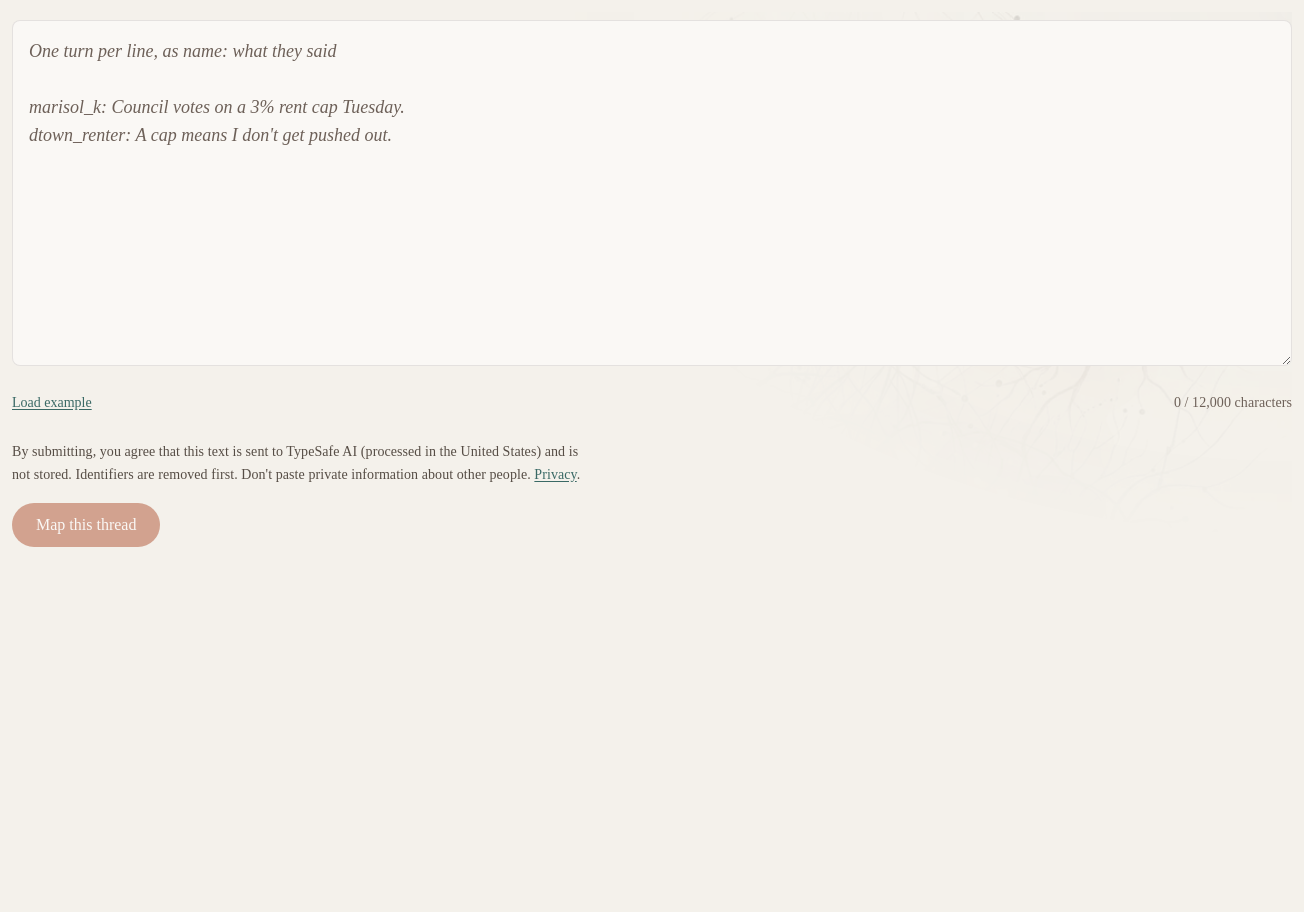
Test: MapReplyClient API boundary › keeps typed input available and allows retry after a malformed response
Click the button "Load example". click: (52, 403)
box: [12,381,92,425]
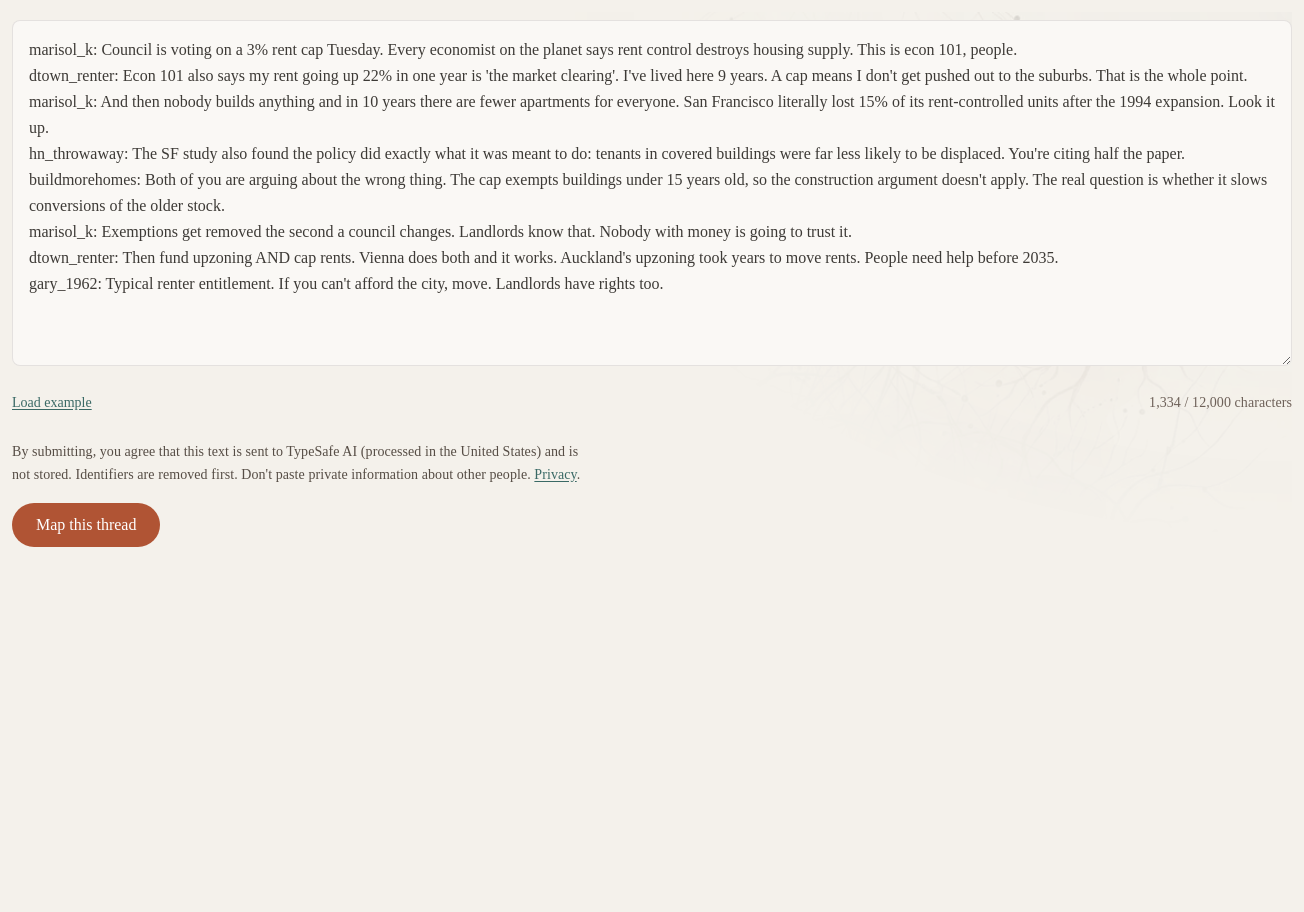
Click the button "Map this thread". click: (86, 524)
box: [12,502,160,546]
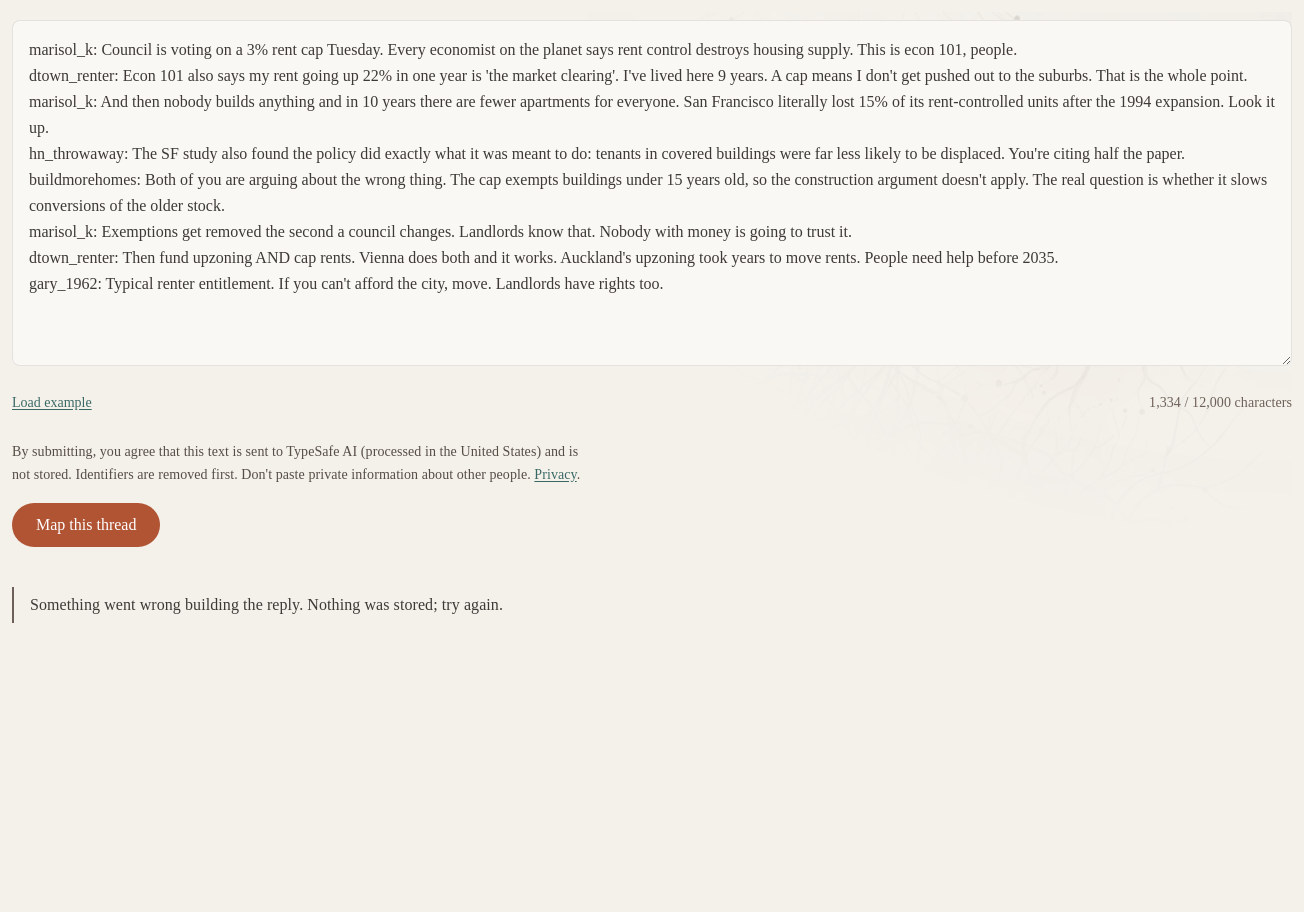
Now the message "Something went wrong building the reply. Nothing was stored; try again." is shown, box [12,586,1292,622]
Click the button "Map this thread". click: (86, 524)
box: [12,502,160,546]
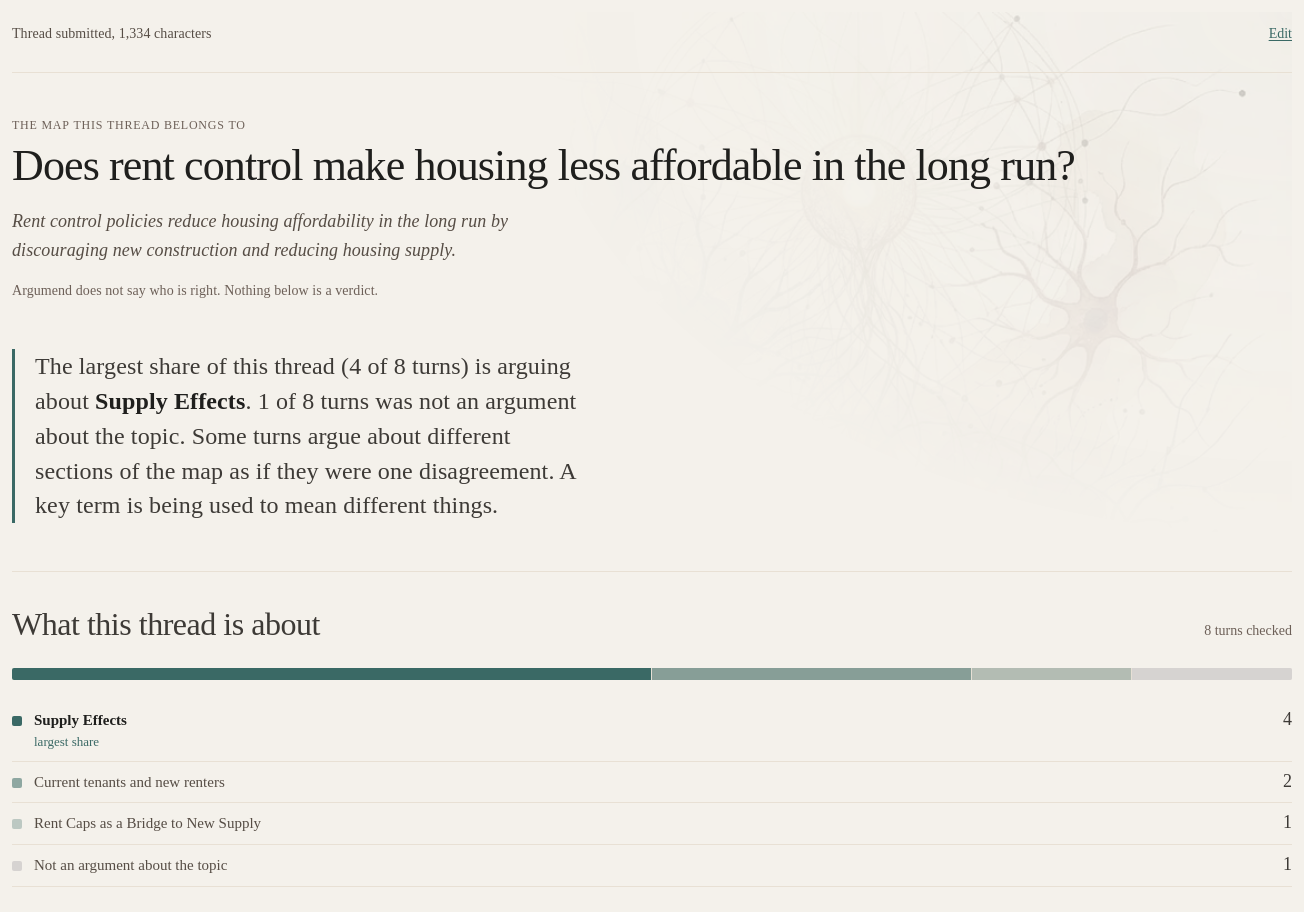
Now the link "Does rent control make housing less affordable in the long run?" is shown, box [12,141,1075,190]
Now the message "Something went wrong building the reply. Nothing was stored; try again." is gone
